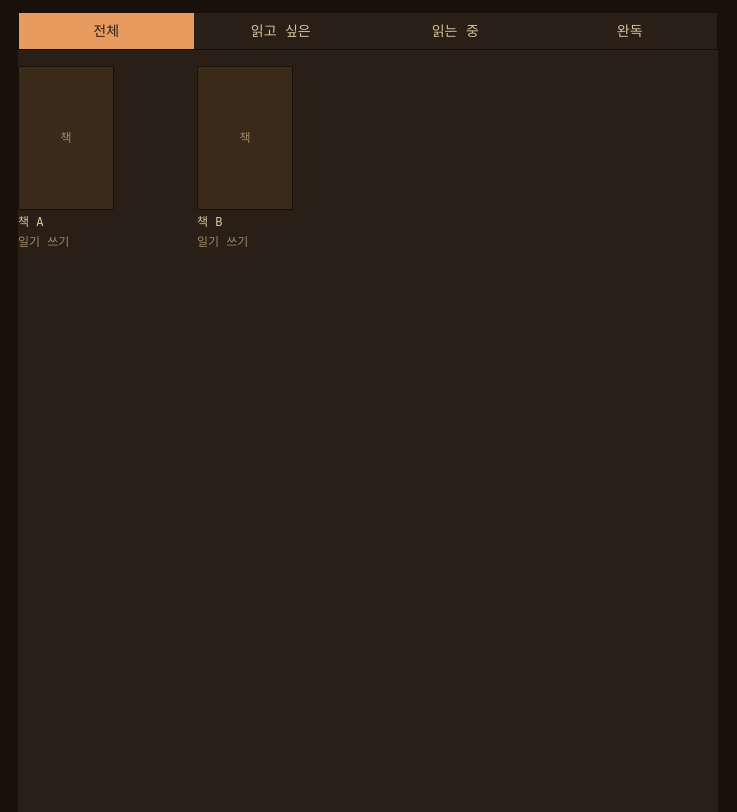
Test: BookGrid › 탭을 전체로 되돌리면 모든 책이 다시 노출된다
This screenshot has width=737, height=812.
Click the tab "완독".
click(630, 31)  # box [542,13,717,49]
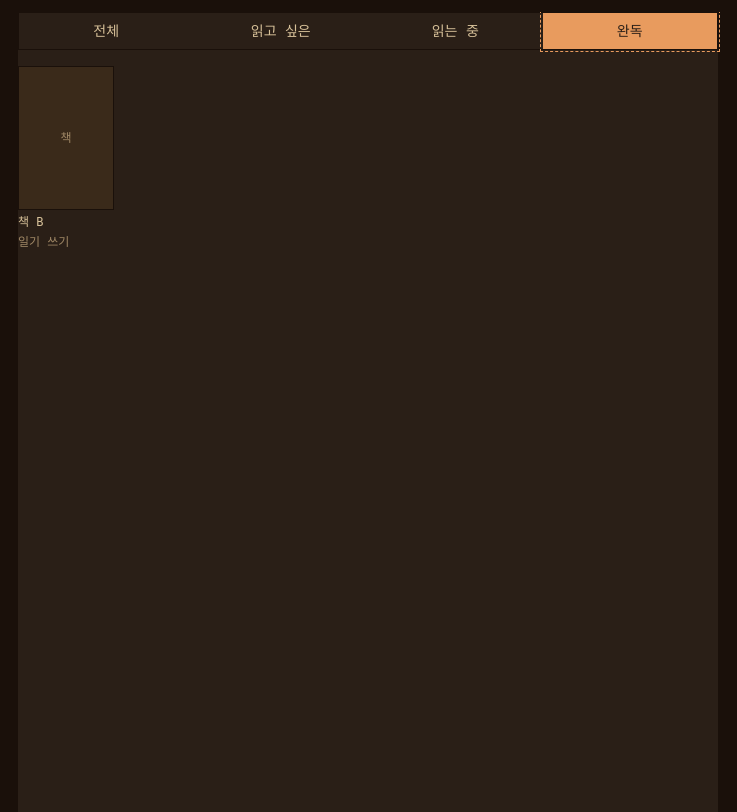
Expected: the link "책 A" is gone
Click the tab "전체".
click(106, 31)  # box [19,13,194,49]
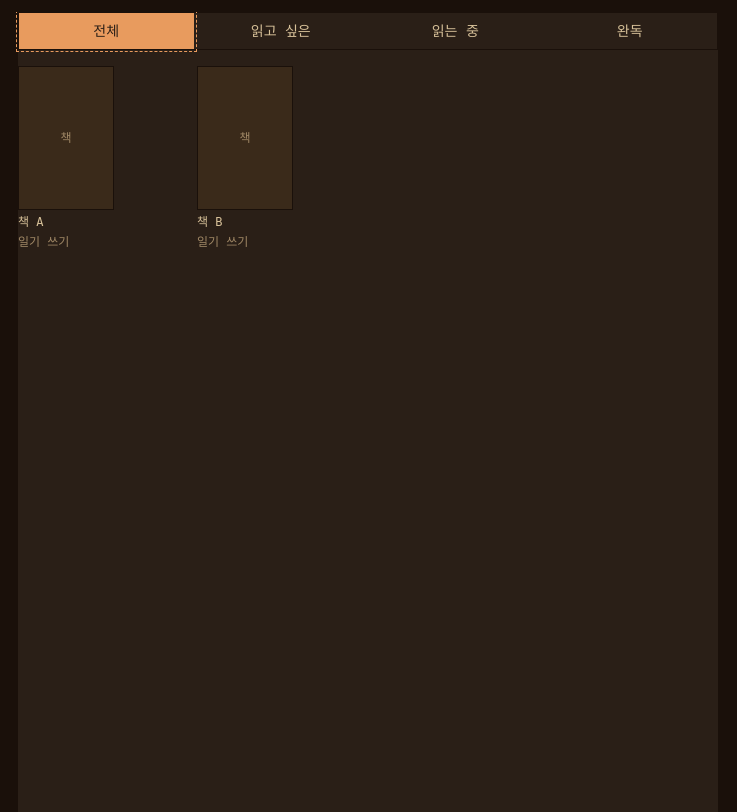
Expected: the text "책 B" is shown, [197,215,222,229]
Expected: the text "책 A" is shown, [18,215,44,229]
